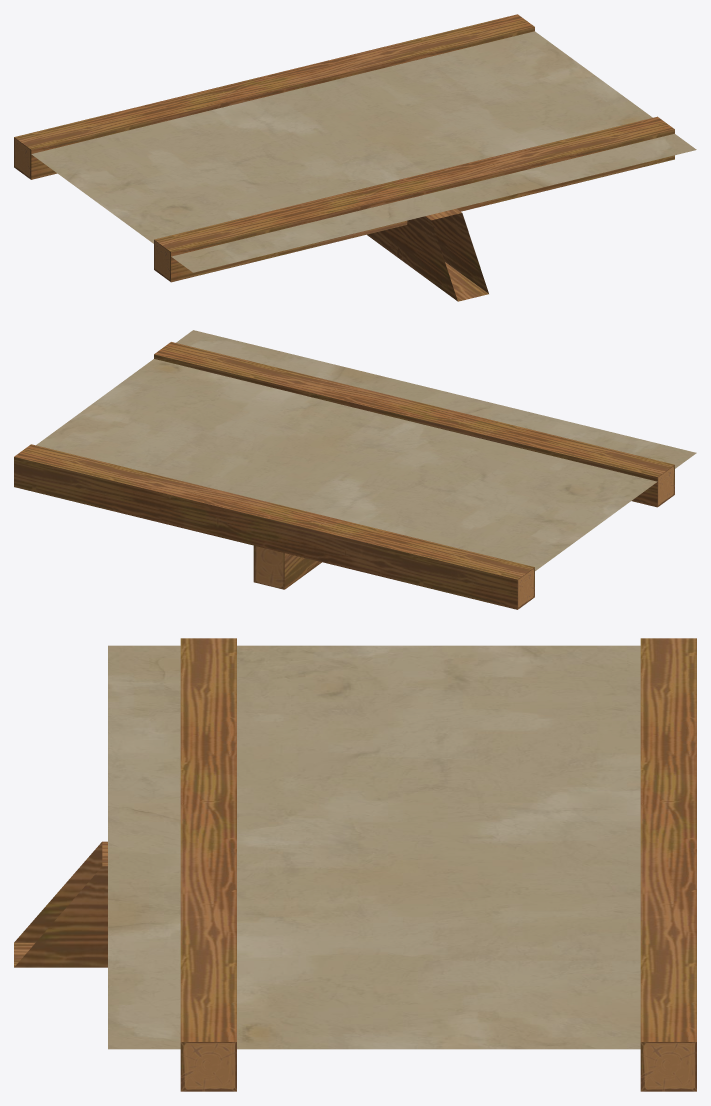
File: Overhang_RoofIncline_Plaster.gltf
3 views of the same model, one above another, from view 1: azimuth 30°, elevation 25°; view 2: azimuth 150°, elevation 25°; view 3: azimuth 270°, elevation 25° (orthographic). The views are drawn at different scales.
Visible parts, largest first — view 1: Overhang_RoofIncline_Plaster; view 2: Overhang_RoofIncline_Plaster; view 3: Overhang_RoofIncline_Plaster.
Boxes of the visible parts, x1,y1,x2,y2 form: Overhang_RoofIncline_Plaster: (14, 14, 696, 301); Overhang_RoofIncline_Plaster: (14, 330, 696, 609); Overhang_RoofIncline_Plaster: (14, 638, 696, 1091).
Size of the model in its own units: 2 by 0.2659 by 1.43.
2 materials, 2 textured.
